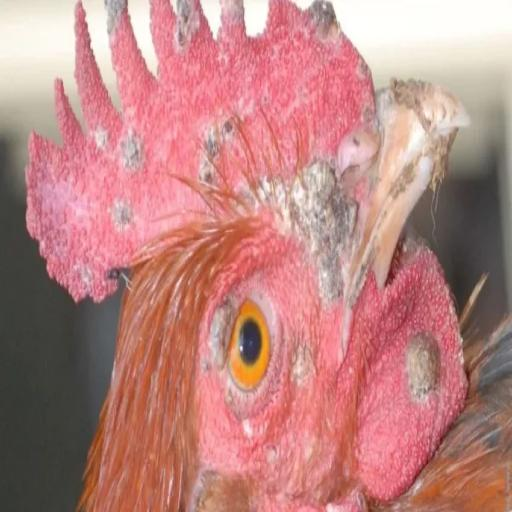disease: (269, 136, 361, 296), (66, 106, 148, 238), (179, 96, 258, 204), (404, 312, 443, 418), (286, 326, 325, 411), (199, 299, 239, 367), (161, 4, 213, 54), (301, 2, 341, 56), (95, 1, 132, 46)
